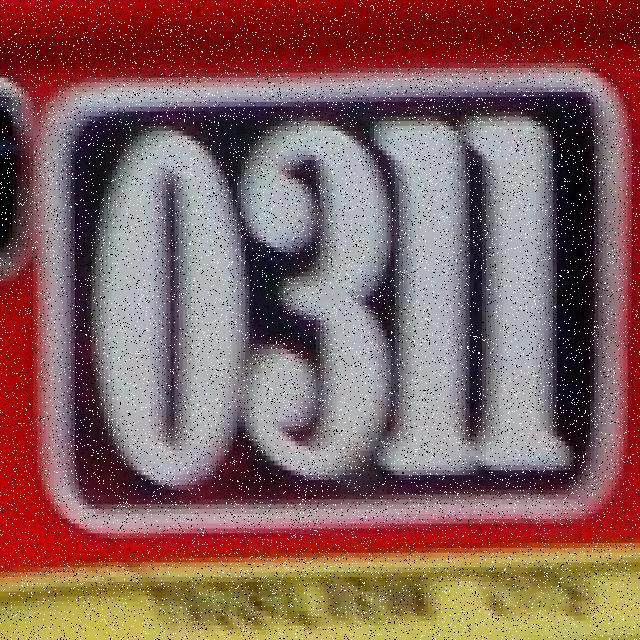LicensePlate: (38, 70, 634, 534)
